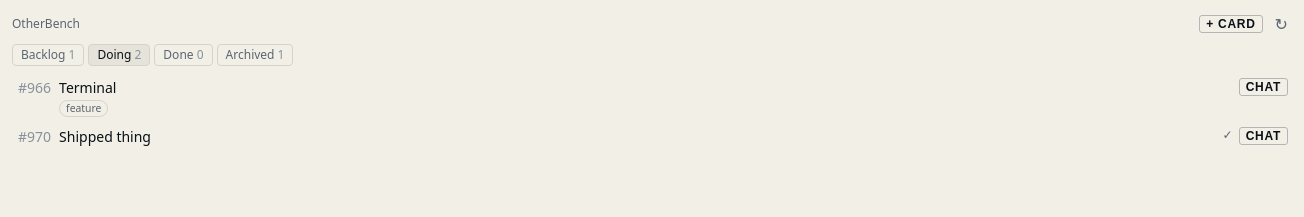
Test: DeckTab › a deck-move-ignored error shows the server message
Click the button with test id "card-row-966": click(88, 88) [12, 74, 1239, 121]
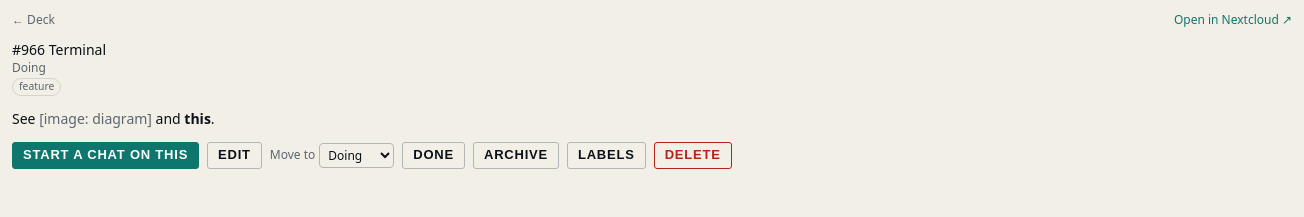
Select "Done" in the dropdown labelled "Move to": (357, 156) [319, 143, 394, 168]
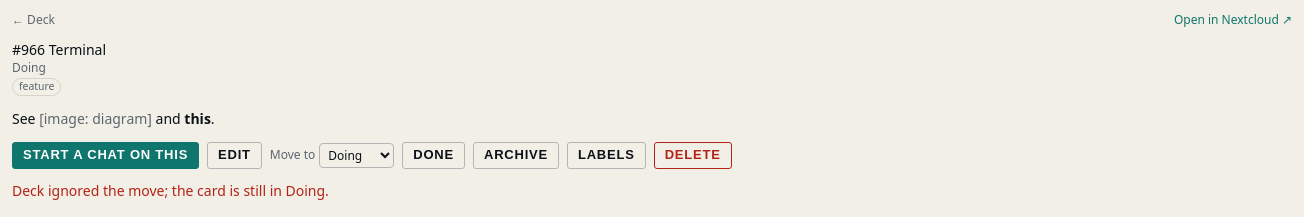
Expected: the message reads "Deck ignored the move; the card is still in Doing.", [12, 181, 329, 200]
